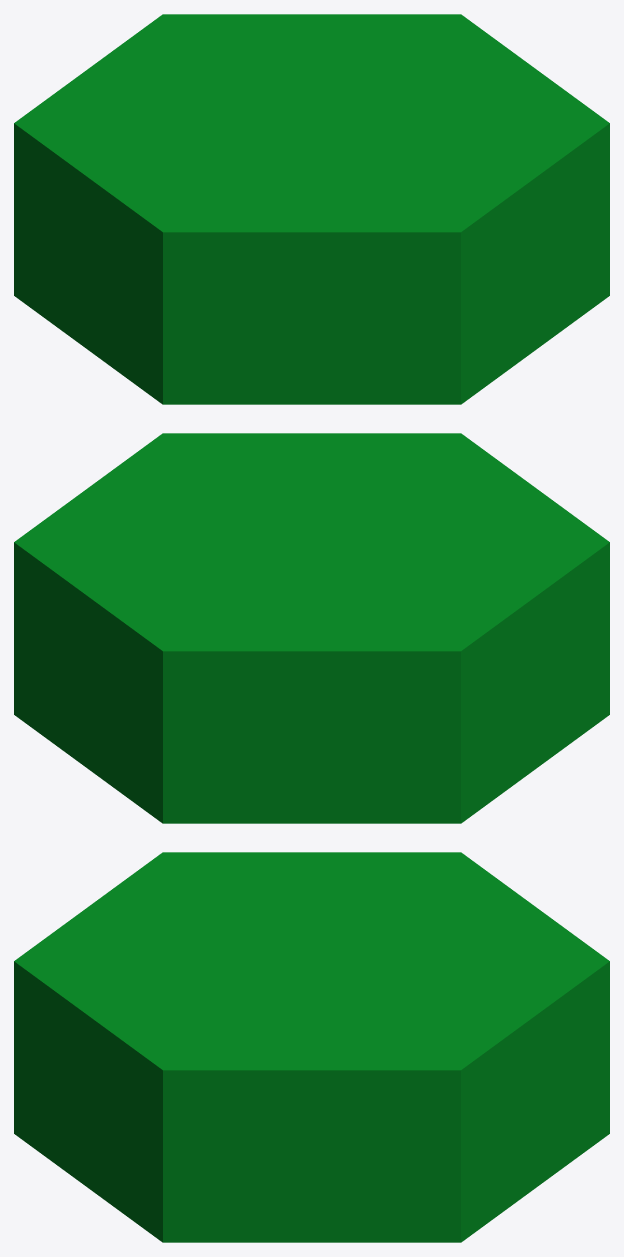
File: Barrel Cap Green.fbx
3 views of the same model, one above another, from view 1: azimuth 30°, elevation 25°; view 2: azimuth 150°, elevation 25°; view 3: azimuth 270°, elevation 25° (orthographic).
Visible parts, largest first — view 1: Barrel Cap Green; view 2: Barrel Cap Green; view 3: Barrel Cap Green.
Boxes of the visible parts, x1,y1,x2,y2 form: Barrel Cap Green: (14,14,609,404); Barrel Cap Green: (14,433,609,823); Barrel Cap Green: (14,852,609,1242).
Size of the model in its own units: 12.66 by 4.67 by 14.62.
